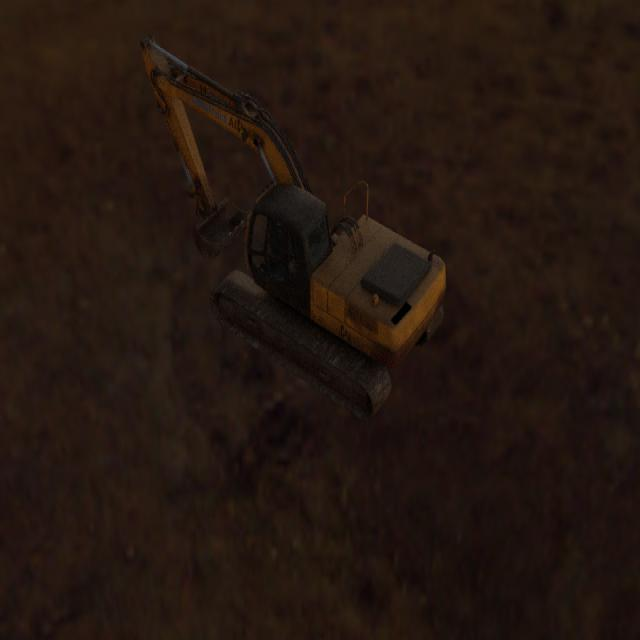excavator: (139, 32, 446, 421)
